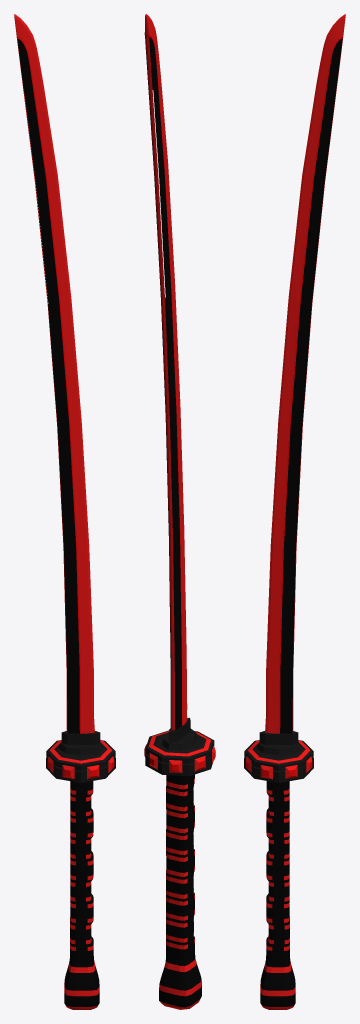
The model's file is katana.fbx.
The picture shows the model from 3 angles, left to right: view 1: azimuth 90°, elevation 25°; view 2: azimuth 150°, elevation 25°; view 3: azimuth 270°, elevation 25°; orthographic projection. The views are drawn at different scales.
Parts seen in each view (by area): view 1: Cylinder002; view 2: Cylinder002; view 3: Cylinder002.
Boxes of the visible parts, x1,y1,x2,y2 form: Cylinder002: (14,14,115,1009); Cylinder002: (144,14,215,1009); Cylinder002: (244,14,345,1009).
Size of the model in its own units: 5.92 by 92.76 by 8.63.
